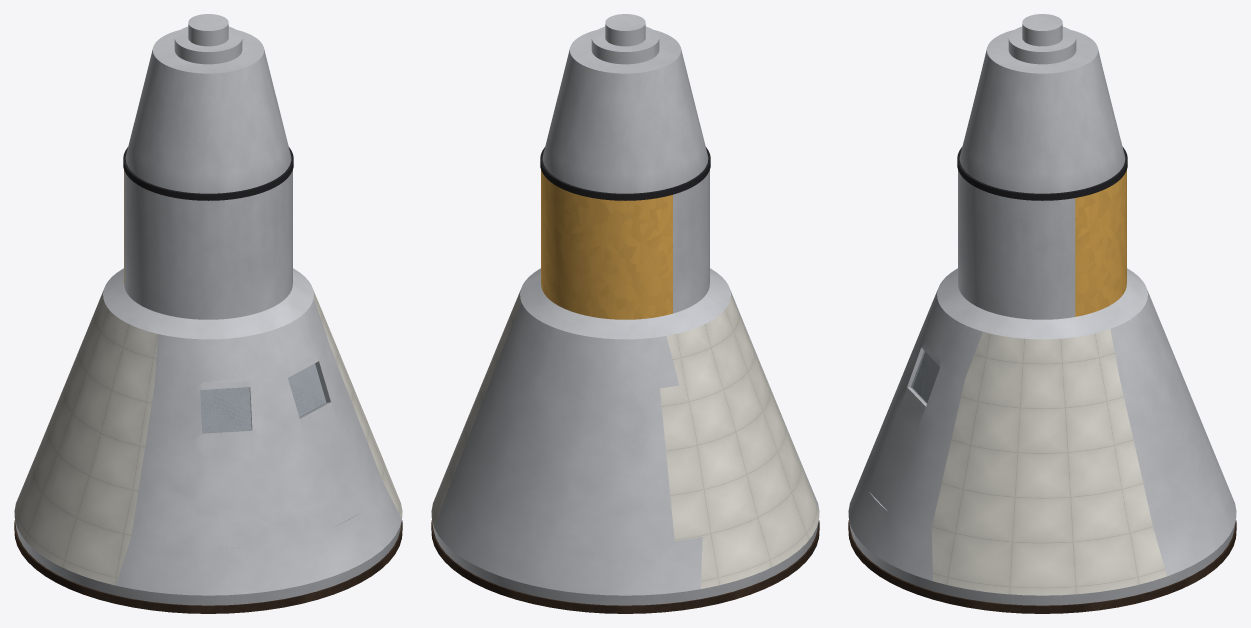
File: cmd03_gemini_capsule.glb
3 views of the same model, side by side, from view 1: azimuth 30°, elevation 25°; view 2: azimuth 150°, elevation 25°; view 3: azimuth 270°, elevation 25° (orthographic).
Parts seen in each view (by area): view 1: cabin_hull, heat_shield, windows, docking_nose, rr_section_ring; view 2: cabin_hull, heat_shield, docking_nose, rr_section_ring; view 3: cabin_hull, heat_shield, docking_nose, rr_section_ring, windows.
Part boxes in pixels (x1,y1,x2,y2): cabin_hull: (14, 30, 402, 605); heat_shield: (14, 520, 402, 613); windows: (200, 363, 327, 432); docking_nose: (174, 14, 242, 64); rr_section_ring: (123, 147, 293, 200); cabin_hull: (431, 30, 819, 605); heat_shield: (431, 520, 819, 613); docking_nose: (591, 14, 659, 64); rr_section_ring: (540, 147, 710, 200); cabin_hull: (848, 30, 1236, 605); heat_shield: (848, 520, 1236, 613); docking_nose: (1008, 14, 1076, 64); rr_section_ring: (957, 147, 1127, 200); windows: (911, 351, 939, 403).
Size of the model in its own units: 2.3 by 3.58 by 2.3.
Materials: 6 (4 with a texture image).
